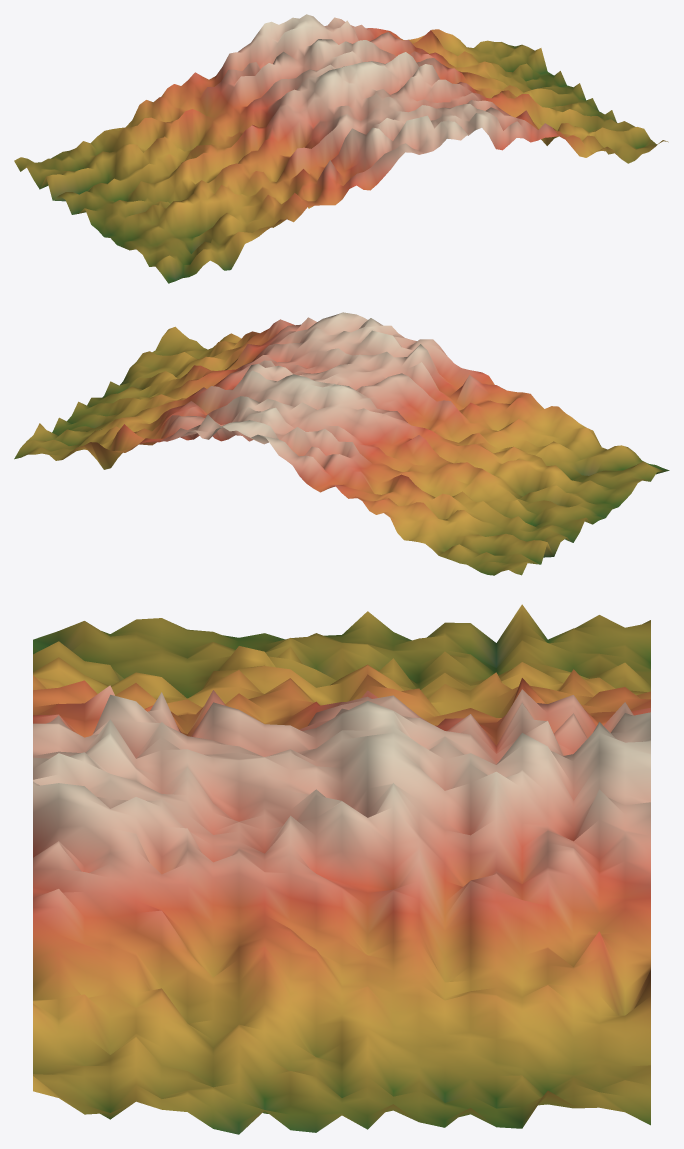
Rendered from climate-kansas.glb.
The picture shows the model from 3 angles, top to bottom: view 1: azimuth 30°, elevation 25°; view 2: azimuth 150°, elevation 25°; view 3: azimuth 270°, elevation 25°; orthographic projection. The views are drawn at different scales.
Parts seen in each view (by area): view 1: ridge; view 2: ridge; view 3: ridge.
Boxes of the visible parts, x1,y1,x2,y2 form: ridge: [14, 14, 668, 283]; ridge: [14, 312, 669, 575]; ridge: [33, 604, 650, 1134].
Size of the model in its own units: 6 by 1.07 by 3.2.
